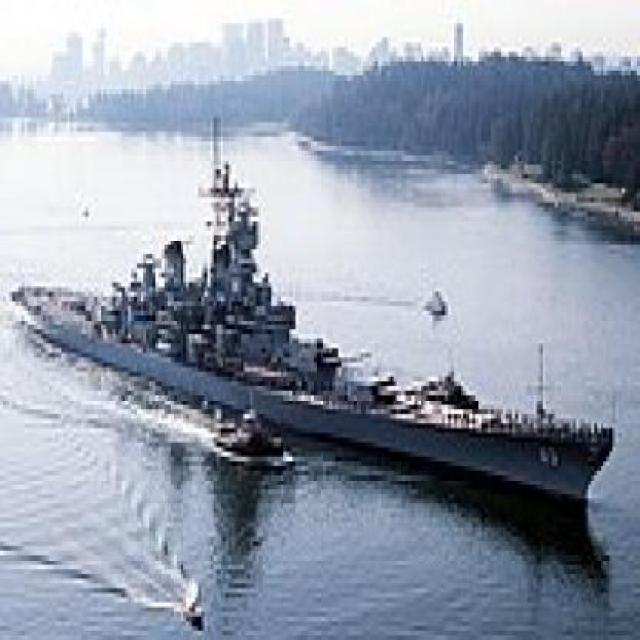warship2: (7, 100, 623, 529)
